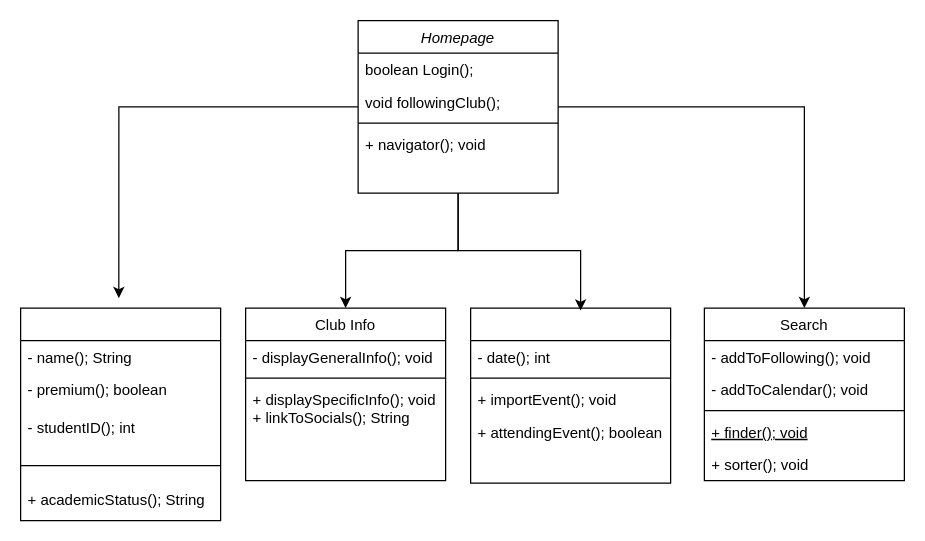
This 925x541 diagram has some shape labels left out. The box of each missing label's shape, as (x1, y1, x2, y2) in pixels:
Calendar: (469, 307, 671, 483)
Profile: (19, 307, 221, 521)
